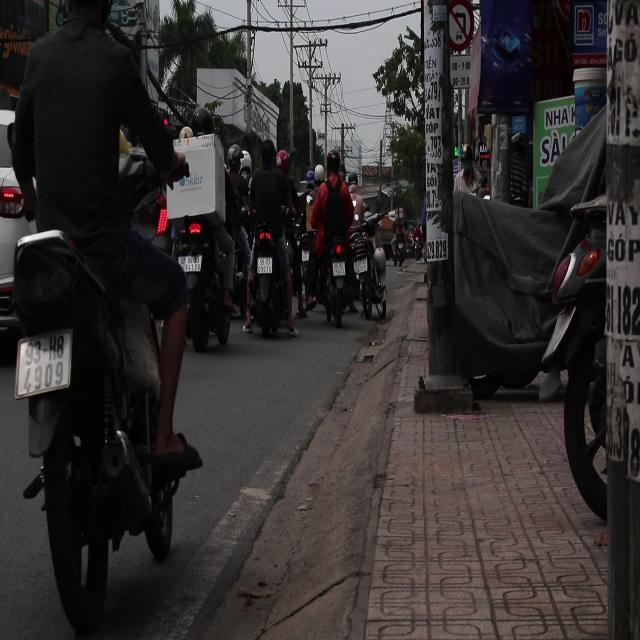motorbike: (0, 205, 194, 608), (157, 181, 235, 347), (241, 211, 294, 359), (351, 223, 390, 333), (319, 236, 355, 343), (291, 212, 321, 337)
